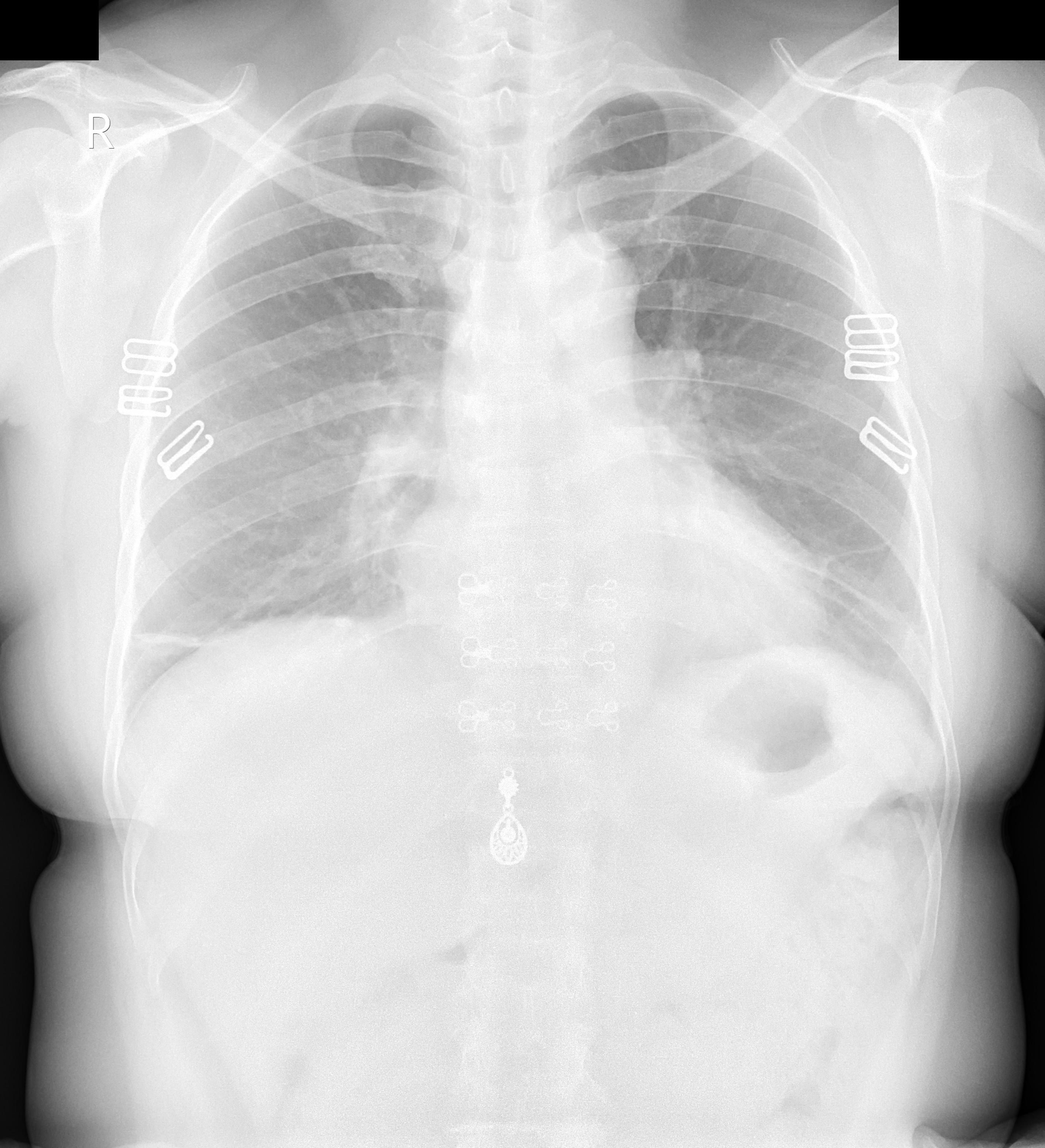Aortic enlargement: (521, 229, 640, 339)
Cardiomegaly: (390, 517, 827, 655)
Pulmonary fibrosis: (782, 541, 899, 620), (125, 630, 213, 647)
